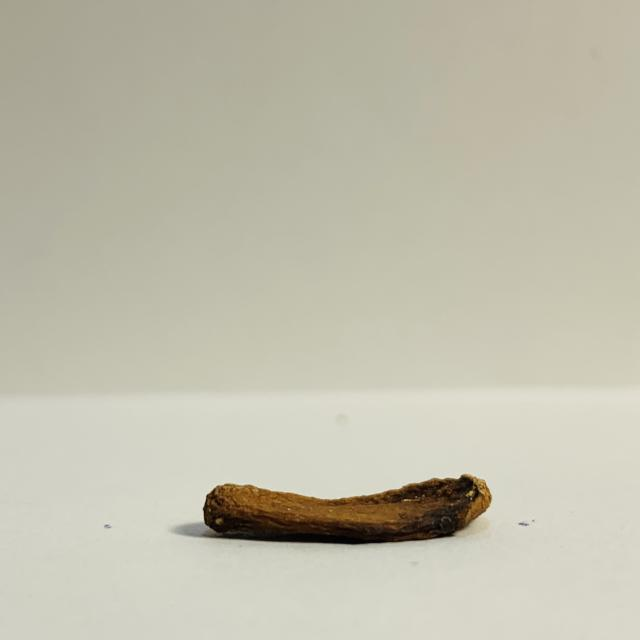Flat_cocoabeans: (160, 418, 521, 594)
